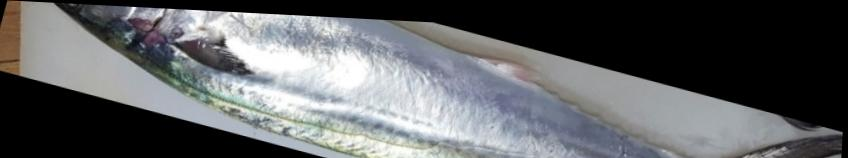fish: (54, 2, 844, 158)
